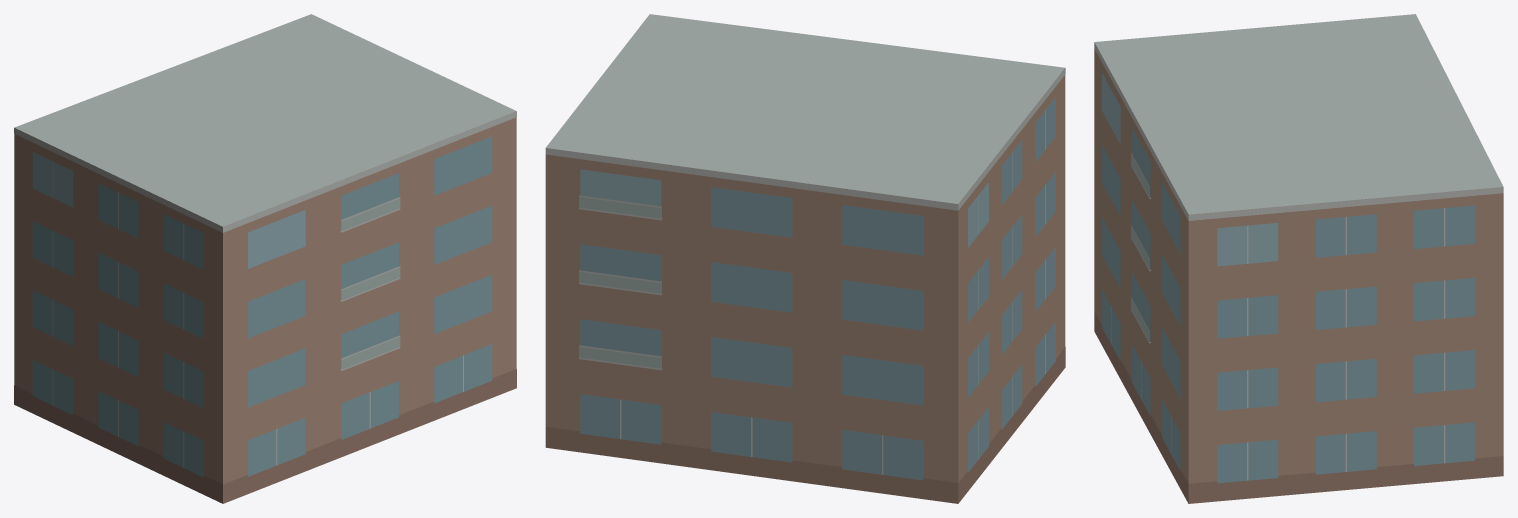
Rendered from survey-upis-32979380.glb.
3 views of the same model, side by side, from view 1: azimuth 30°, elevation 25°; view 2: azimuth 150°, elevation 25°; view 3: azimuth 270°, elevation 25° (orthographic). The views are drawn at different scales.
Visible parts, largest first — view 1: survey-upis-32979380.tmp; view 2: survey-upis-32979380.tmp; view 3: survey-upis-32979380.tmp.
Boxes of the visible parts, <box> form: survey-upis-32979380.tmp: <box>14,14,516,503</box>; survey-upis-32979380.tmp: <box>545,14,1065,503</box>; survey-upis-32979380.tmp: <box>1094,14,1503,503</box>.
Bounding box in the file's own units: 16.6 × 11.15 × 14.31.
